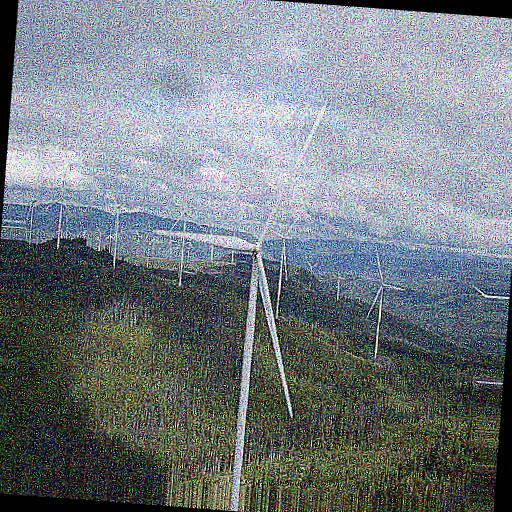wind turbine: (148, 101, 328, 505), (365, 248, 404, 357), (263, 216, 302, 318)
